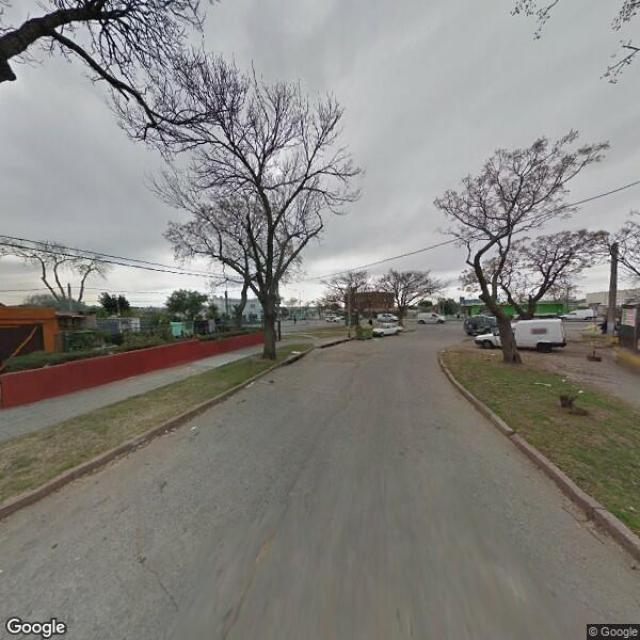garbage container: (354, 322, 379, 344)
